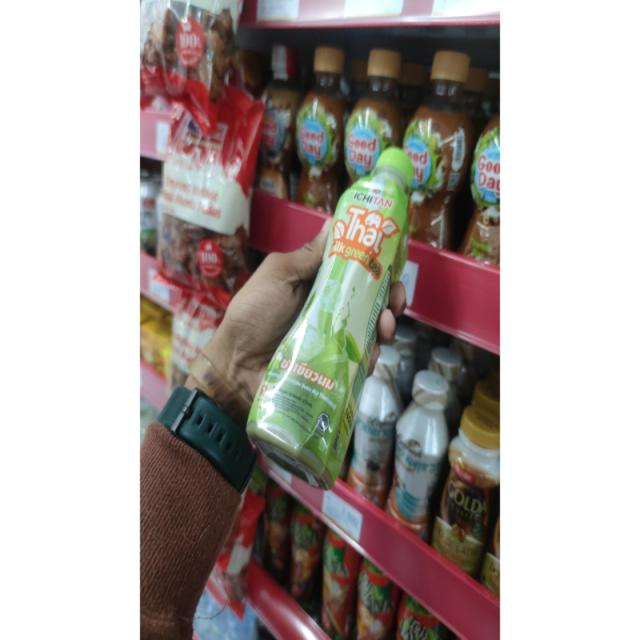botol: (241, 138, 426, 502), (395, 46, 470, 277), (345, 46, 396, 244), (294, 45, 346, 229), (252, 40, 302, 217)
